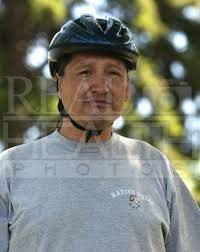helmet: (46, 14, 139, 129)
